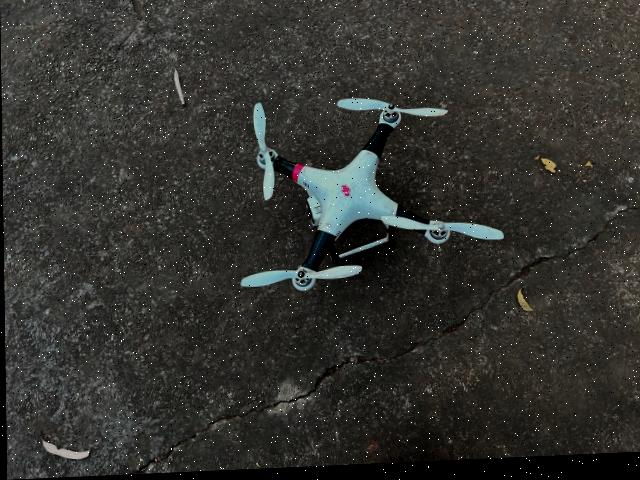drone: (248, 100, 455, 296)
